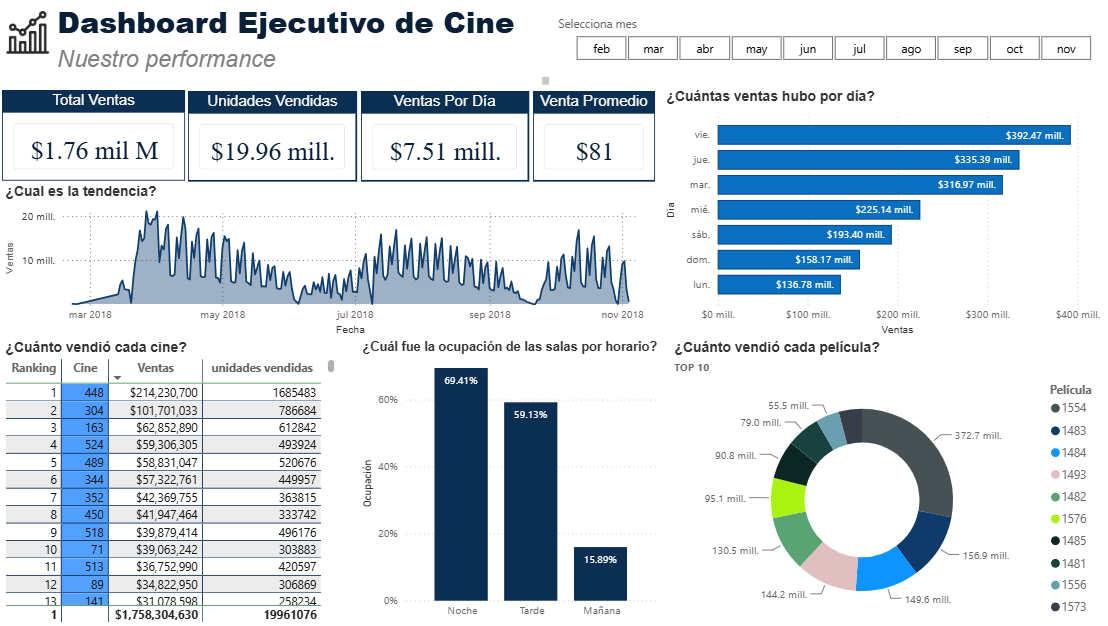

Layout of this report page (visuals, bound fields, positions):
{"tool":"powerbi","page":{"name":"Página 1","canvas":[1280,720],"ordinal":0},"visuals":[{"type":"textbox","title":"Dashboard Ejecutivo de Cine","box":[65.7,2.9,574.3,101.4],"z":0},{"type":"cardVisual","title":"Total Ventas","fields":{"Data":["cinema_dataset_processed.total ingresos"]},"box":[6.7,104.4,210,104.4],"z":1000},{"type":"cardVisual","title":"Ventas Por Día","fields":{"Data":["cinema_dataset_processed.Ventas por Dia"]},"box":[418.8,105,192.5,103.8],"z":2000},{"type":"slicer","fields":{"Values":["cinema_dataset_processed.nombre mes"]},"box":[640,14.3,640,61.4],"z":3000},{"type":"cardVisual","title":"Venta Promedio","fields":{"Data":["cinema_dataset_processed.Precio Ticket"]},"box":[616.2,105,140,103.8],"z":4000},{"type":"image","box":[7.1,14.3,58.6,48.6],"z":5000},{"type":"cardVisual","title":"Unidades Vendidas","fields":{"Data":["cinema_dataset_processed.unidades vendidas"]},"box":[220,105,193.8,103.8],"z":6000},{"type":"lineChart","title":"¿Cual es la tendencia?","fields":{"Y":["cinema_dataset_processed.total ingresos"],"Category":["cinema_dataset_processed.date"]},"box":[6.2,212.5,750,178.8],"z":7000},{"type":"barChart","title":"¿Cuántas ventas hubo por día?","fields":{"Category":["cinema_dataset_processed.nombre dia"],"Y":["cinema_dataset_processed.total ingresos"]},"box":[763.8,103.8,507.5,287.5],"z":8000},{"type":"tableEx","title":"¿Cuánto vendió cada cine?","fields":{"Values":["cinema_dataset_processed.cinema rank","cinema_dataset_processed.cinema_code","cinema_dataset_processed.total ingresos","cinema_dataset_processed.unidades vendidas"]},"box":[6.2,391.2,387.5,328.8],"z":9000},{"type":"donutChart","title":"¿Cuánto vendió cada película?","fields":{"Category":["cinema_dataset_processed.film_code"],"Y":["cinema_dataset_processed.total ingresos"]},"box":[772.5,391.2,507.5,328.8],"z":10000},{"type":"columnChart","title":"¿Cuál fue la ocupación de las salas por horario?","fields":{"Category":["cinema_dataset_processed.tipo horario"],"Y":["cinema_dataset_processed.Ocupacion Global"]},"box":[415,391.2,348.8,328.8],"z":10001}]}

Visuals, with their boxes in screenshot pixels (x1, y1, x2, y2), scaled from the page's 1280x720 canvas onto the 1108x626 screenshot:
"Dashboard Ejecutivo de Cine" textbox: bbox=[57, 3, 554, 91]
"Total Ventas" cardVisual: bbox=[6, 91, 188, 182]
"Ventas Por Día" cardVisual: bbox=[363, 91, 529, 182]
slicer - cinema_dataset_processed.nombre mes: bbox=[554, 12, 1107, 66]
"Venta Promedio" cardVisual: bbox=[533, 91, 655, 182]
image: bbox=[6, 12, 57, 55]
"Unidades Vendidas" cardVisual: bbox=[190, 91, 358, 182]
"¿Cual es la tendencia?" lineChart: bbox=[5, 185, 655, 340]
"¿Cuántas ventas hubo por día?" barChart: bbox=[661, 90, 1100, 340]
"¿Cuánto vendió cada cine?" tableEx: bbox=[5, 340, 341, 625]
"¿Cuánto vendió cada película?" donutChart: bbox=[669, 340, 1107, 625]
"¿Cuál fue la ocupación de las salas por horario?" columnChart: bbox=[359, 340, 661, 625]
